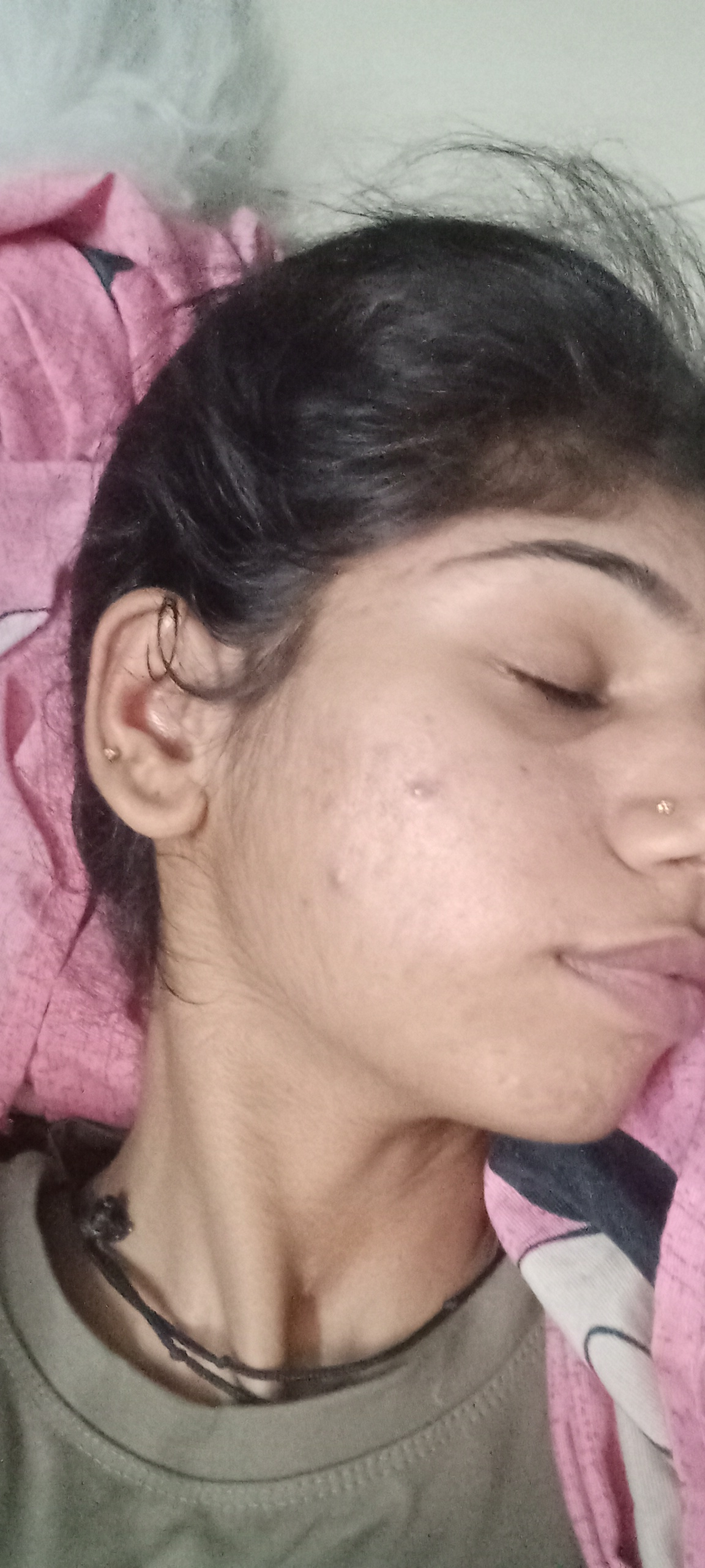papule: (402, 783, 441, 802), (325, 868, 351, 889)
